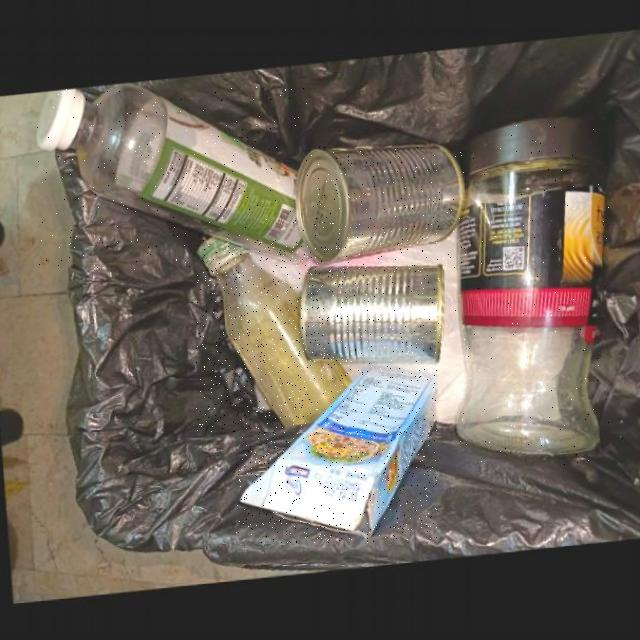glass: (455, 124, 610, 465), (36, 87, 311, 270), (196, 241, 349, 432)
metal: (293, 148, 466, 270), (299, 269, 443, 370)
paper: (237, 370, 437, 543)
